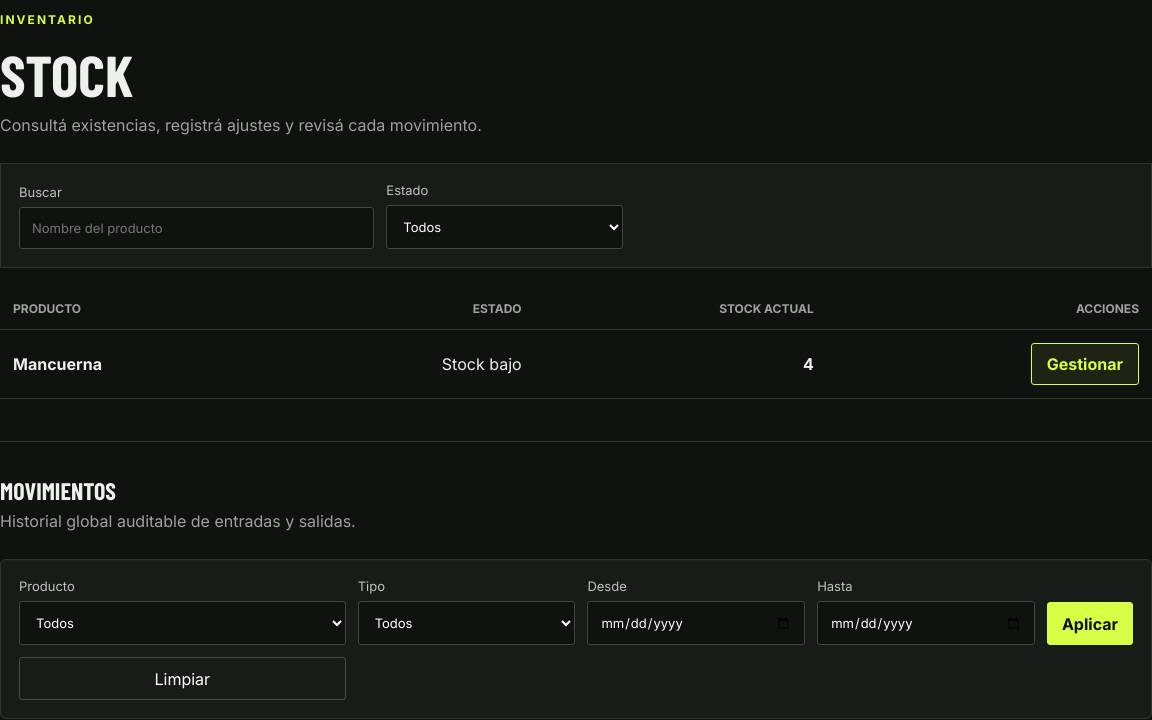
it: StockAdmin › filtra productos y completa un ajuste mostrando la previsualización
Expected: the button "Gestionar" is shown, [1031,343,1139,385]
Type "manc" into the field with placeholder "Nombre del producto". click: x=197, y=228
box: [19,207,374,249]
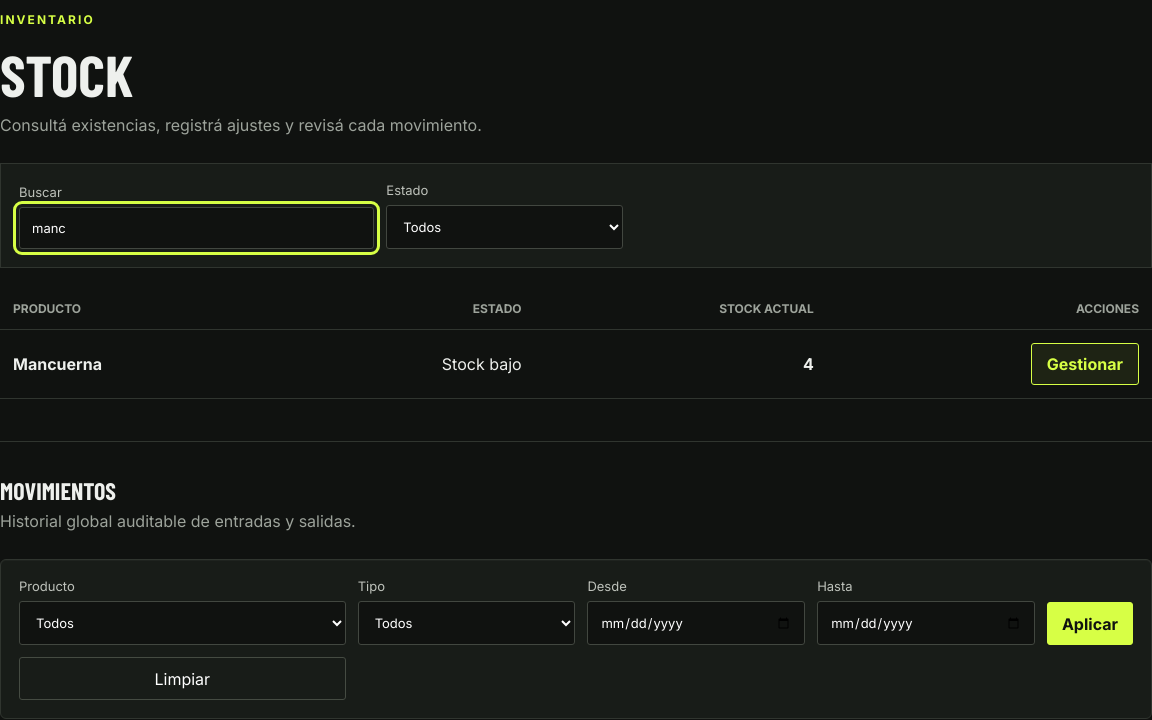
Click the button "Gestionar". click: x=1085, y=364
box: [1031,343,1139,385]
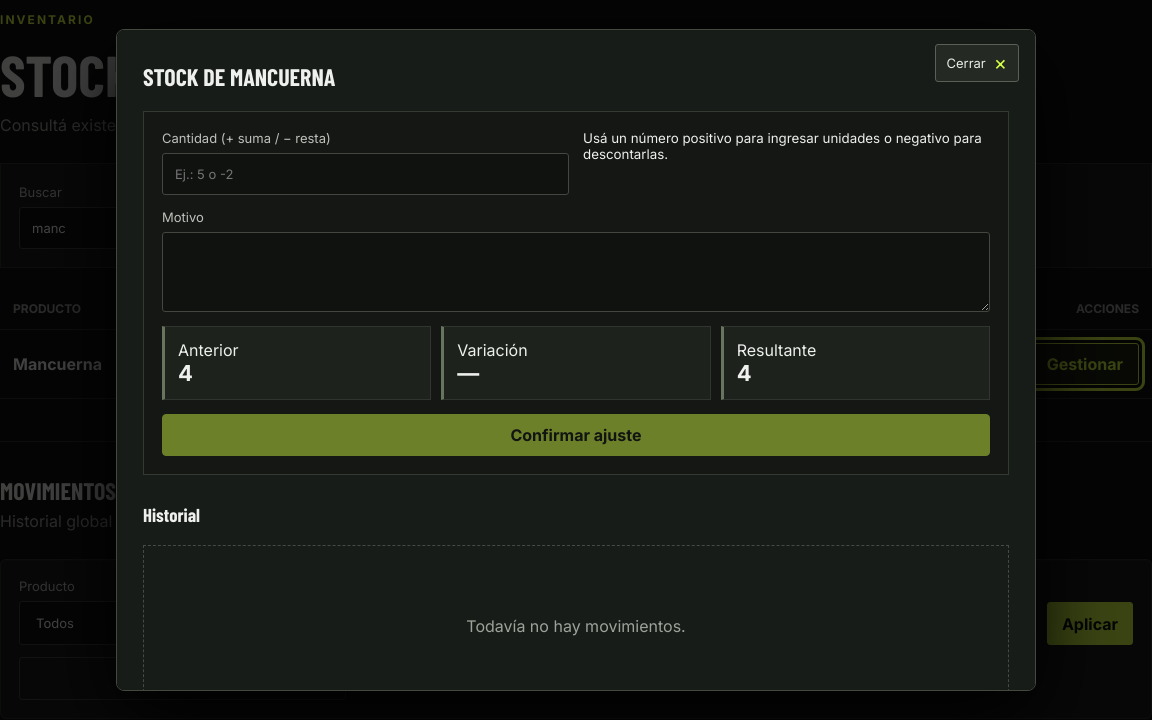
Type "3" into the number field labelled "Cantidad". click: x=366, y=174
box: [162,153,569,195]
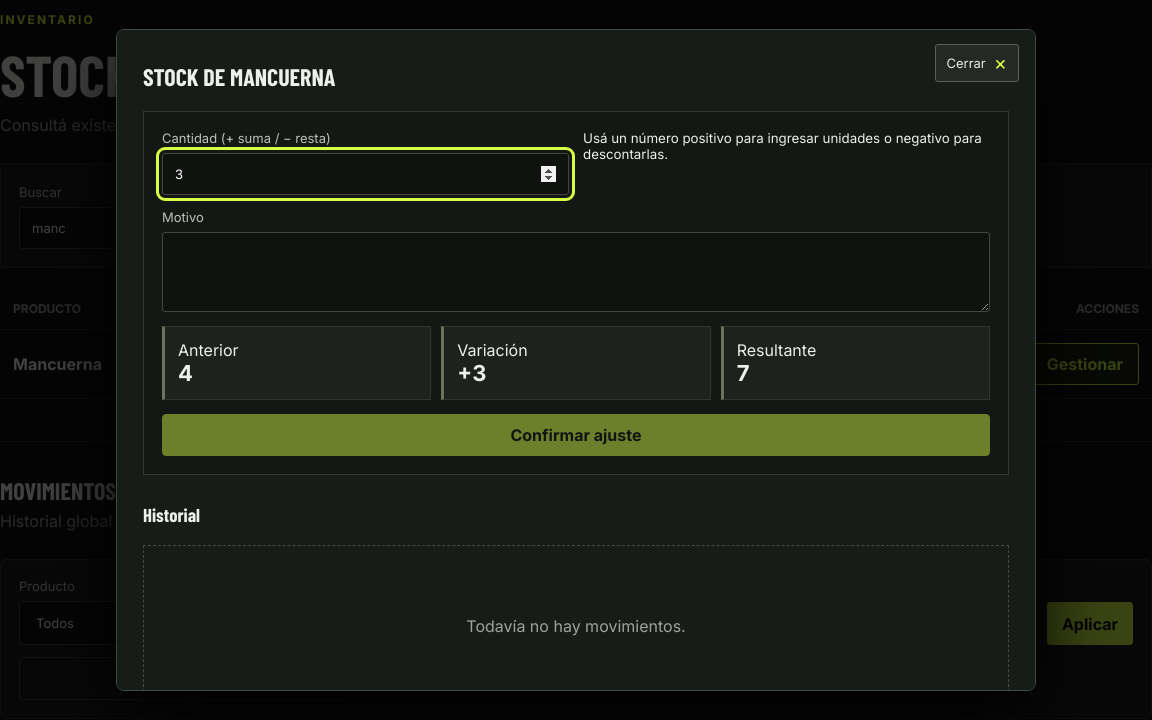
Type "Ingreso" into the text box labelled "Motivo". click: x=576, y=272
box: [162,232,990,312]
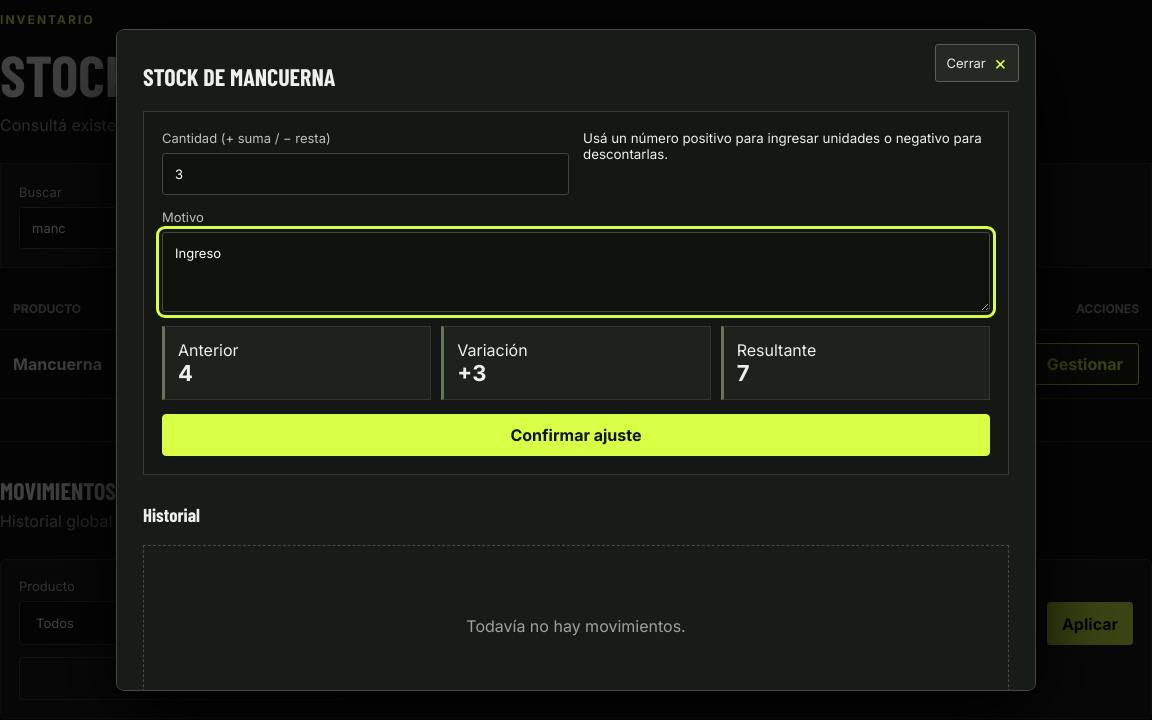
Result: the text "7" is shown at [737,360,750,386]
Click the button "Confirmar ajuste". click: x=576, y=435
box: [162,414,990,456]
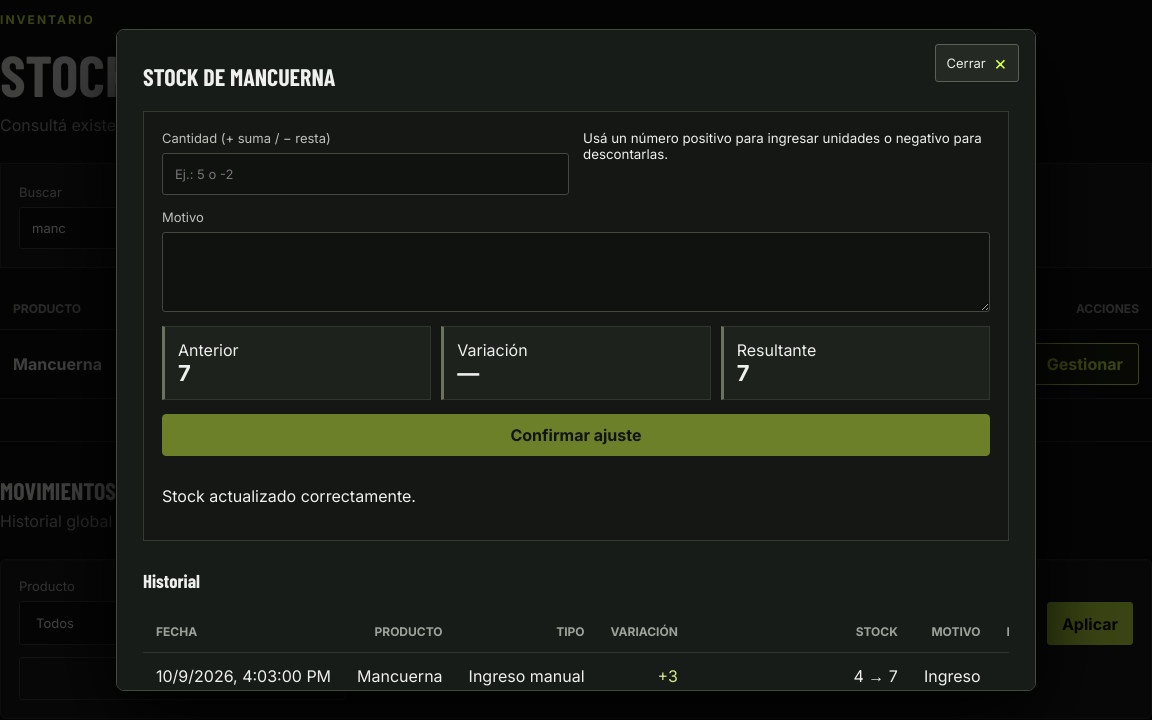
Result: the text "Stock actualizado correctamente." is shown at [162,486,416,506]
